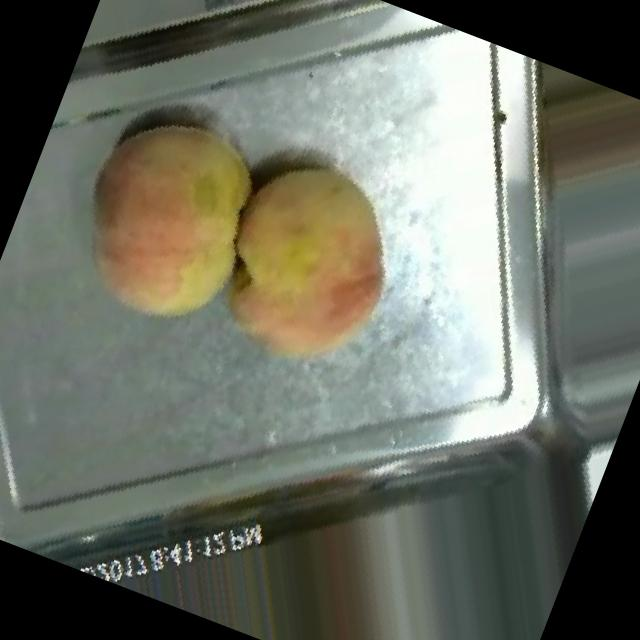Fruit: (29, 69, 312, 374), (172, 117, 449, 421)
